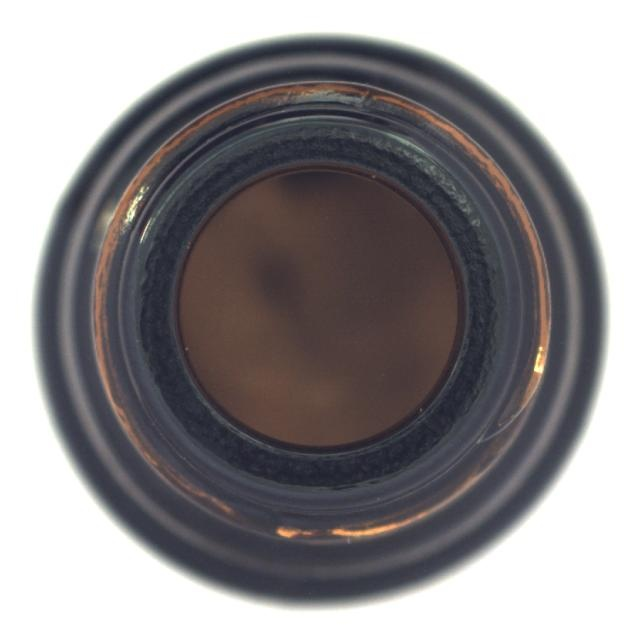bad-contamination: (31, 34, 610, 612)
